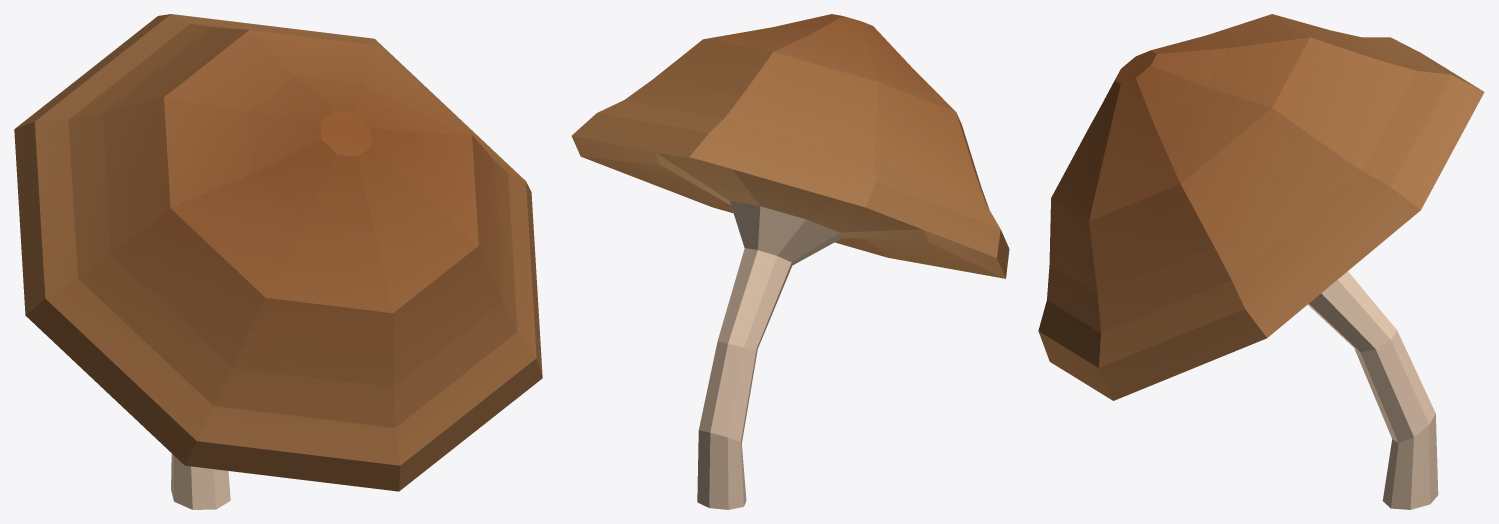
The model's file is brownShroom5.fbx.
The picture shows the model from 3 angles, left to right: view 1: azimuth 30°, elevation 25°; view 2: azimuth 150°, elevation 25°; view 3: azimuth 270°, elevation 25°; orthographic projection. The views are drawn at different scales.
Parts seen in each view (by area): view 1: littleshroom4; view 2: littleshroom4; view 3: littleshroom4.
Part boxes in pixels (box(x1,y1,x2,y2)): littleshroom4: box(14, 14, 542, 509); littleshroom4: box(571, 14, 1009, 509); littleshroom4: box(1038, 14, 1484, 509).
Size of the model in its own units: 409 by 394 by 346.
